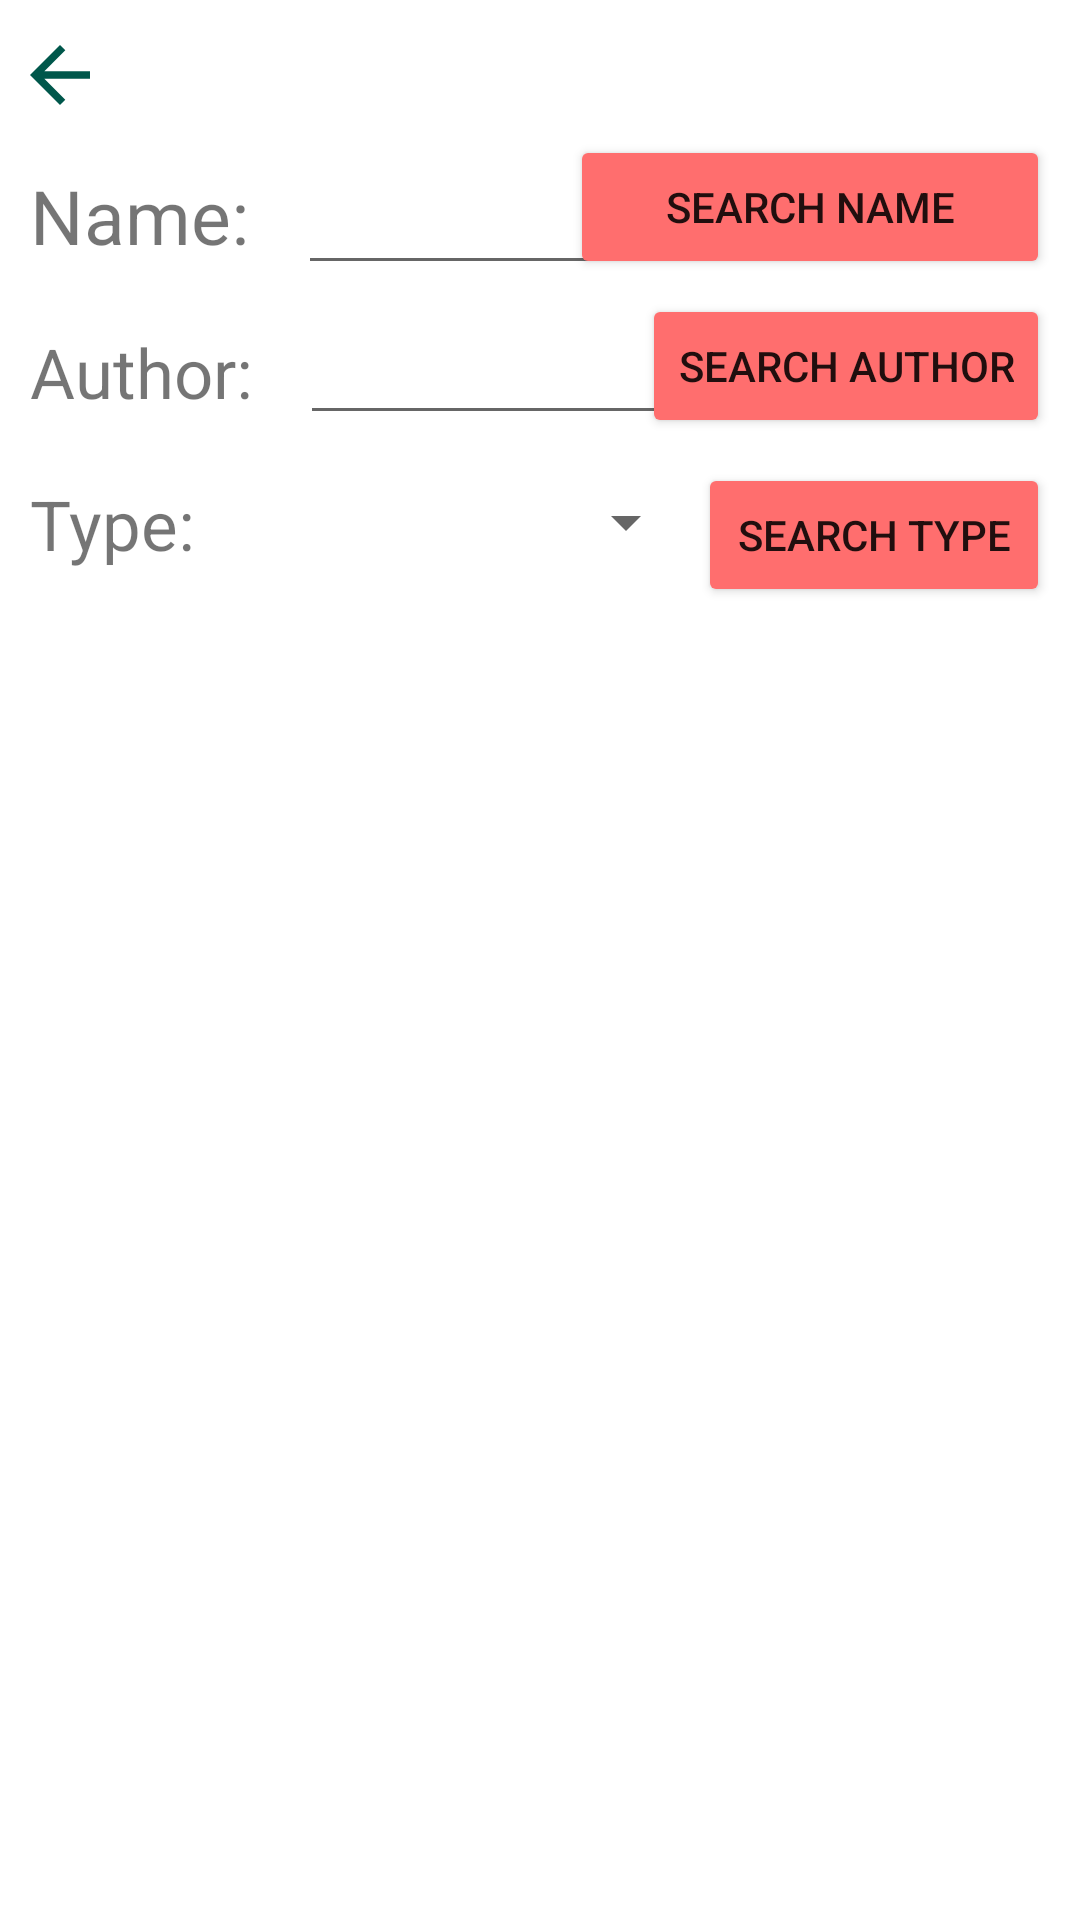

Icons on this 1080*1920 Android screen, each with the point to tap as (x=x, y=y):
arrow back: (x=60, y=75)
